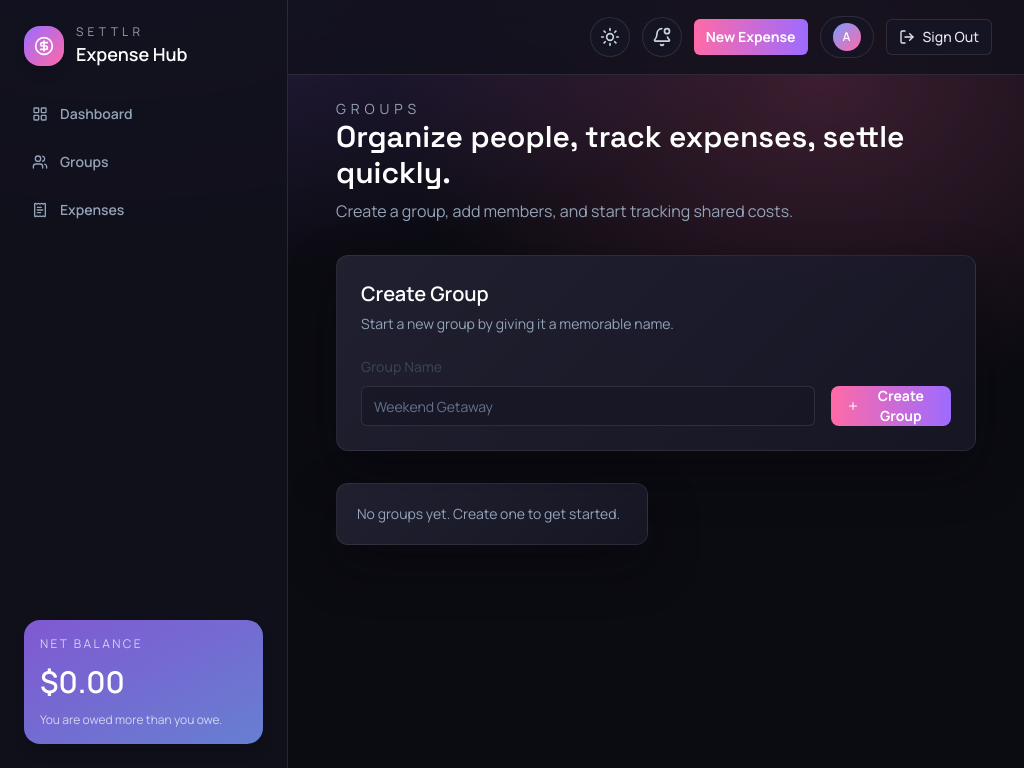
it: Groups page › creates a group and reloads list
Type "Weekend" into the field labelled "Group Name" at {"x": 588, "y": 406}, box left=361, top=386, right=815, bottom=426
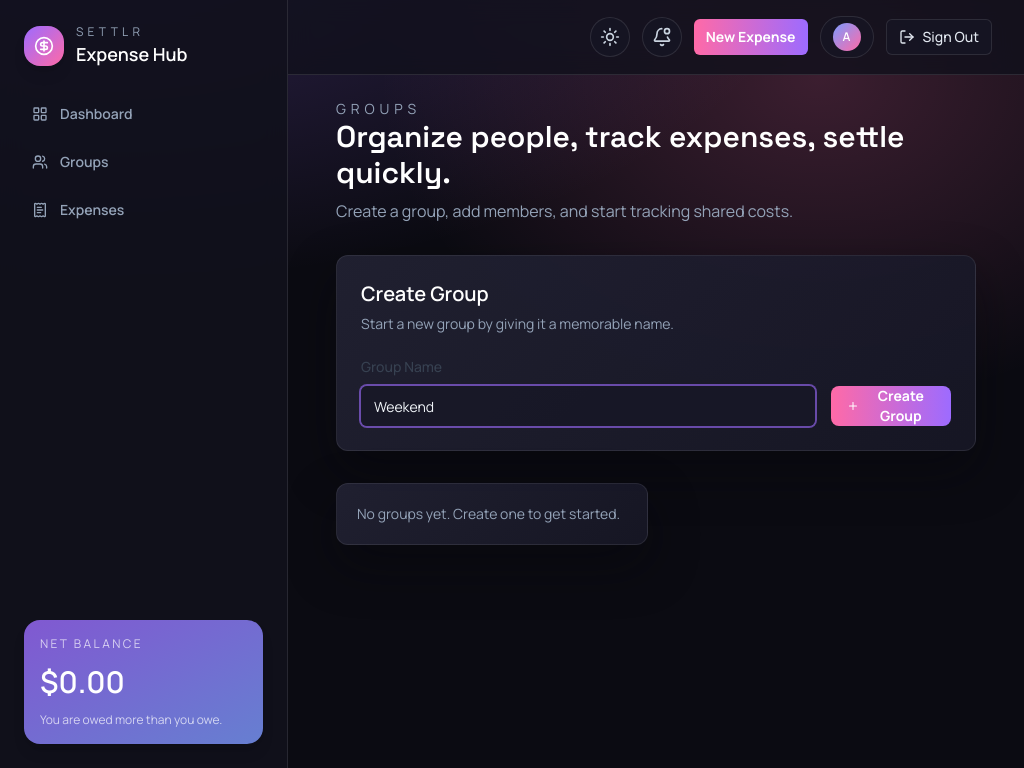
Click the button "Create Group" at {"x": 891, "y": 406}, box left=831, top=386, right=951, bottom=426
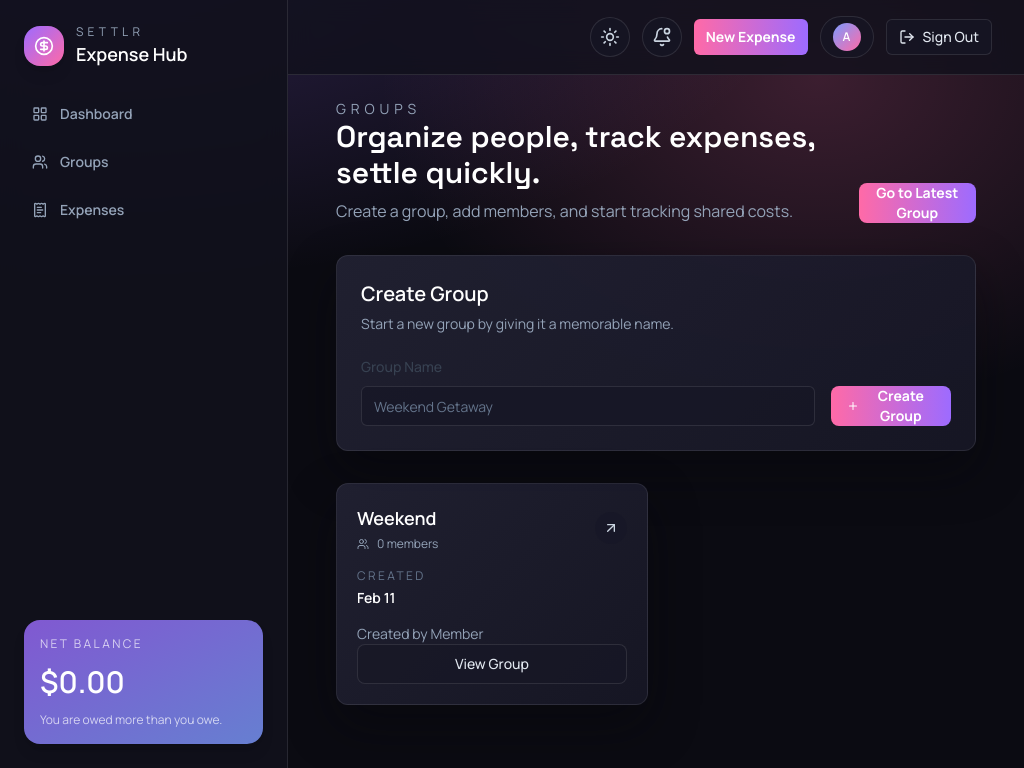
Now the text "Weekend" is shown, box left=357, top=504, right=438, bottom=532
